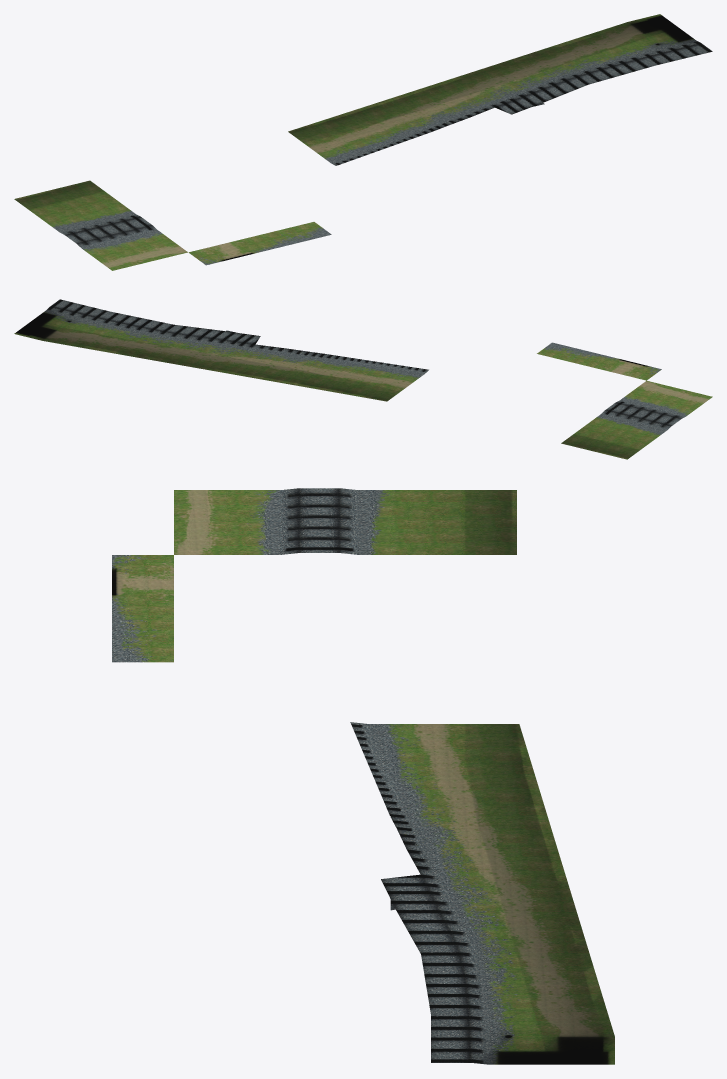
3 views of the same model, one above another, from view 1: azimuth 30°, elevation 25°; view 2: azimuth 150°, elevation 25°; view 3: azimuth 270°, elevation 25° (orthographic). The views are drawn at different scales.
Parts seen in each view (by area): view 1: pl6; view 2: pl6; view 3: pl6.
Part boxes in pixels (left/top/right/bottom): pl6: left=14, top=14, right=712, bottom=270; pl6: left=14, top=299, right=712, bottom=459; pl6: left=112, top=488, right=614, bottom=1064.
Size of the model in its own units: 55.11 by 0.0806 by 20.39.
